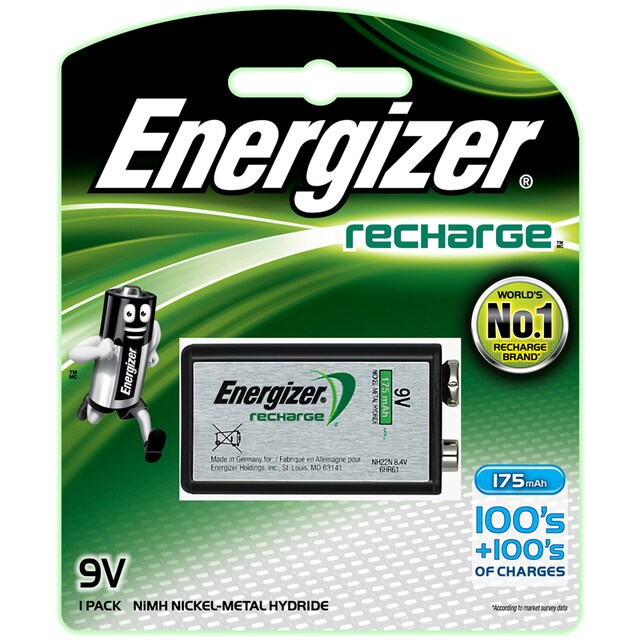Battery: (180, 342, 459, 497)
